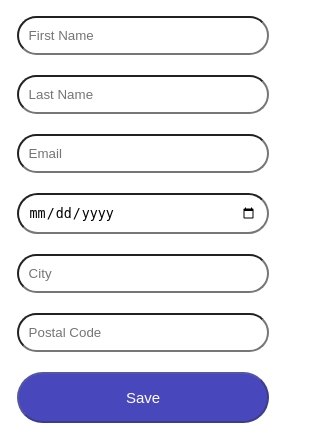
Test: RegistrationForm Integration Tests › Enables Save button when form is filled
The width and height of the screenshot is (320, 440).
Type "John" into the field with placeholder "First Name".
click(143, 36); type("John")  # box [17,16,269,55]
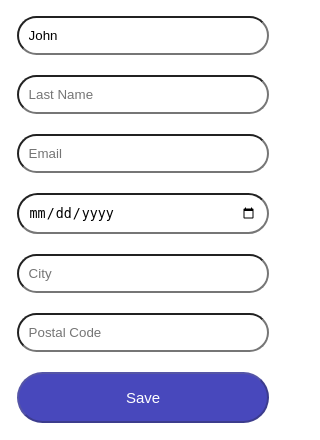
Type "Doe" into the field with placeholder "Last Name".
click(143, 94); type("Doe")  # box [17,75,269,114]
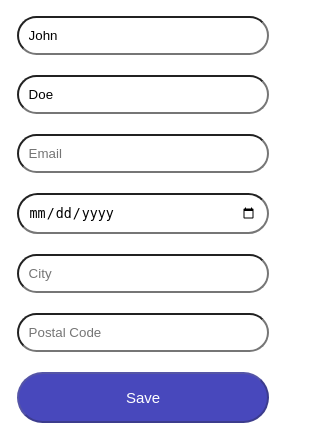
Type "john.doe@example.com" into the field with placeholder "Email".
click(143, 154); type("john.doe@example.com")  # box [17,134,269,173]
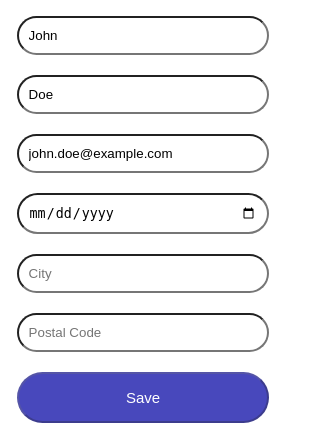
Type "1990-01-01" into the date field with placeholder "Date of Birth".
click(143, 214); type("1990-01-01")  # box [17,193,269,234]
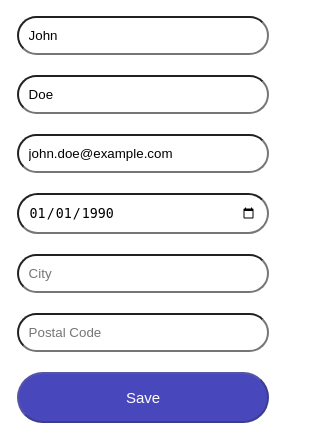
Type "New York" into the field with placeholder "City".
click(143, 274); type("New York")  # box [17,254,269,293]
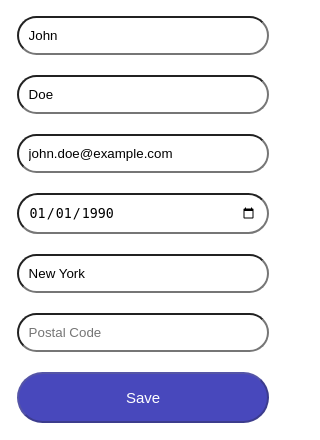
Type "10001" into the field with placeholder "Postal Code".
click(143, 333); type("10001")  # box [17,313,269,352]
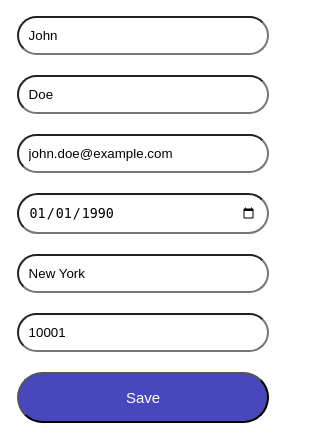
Expected: the button "Save" is enabled, [17,372,269,423]
